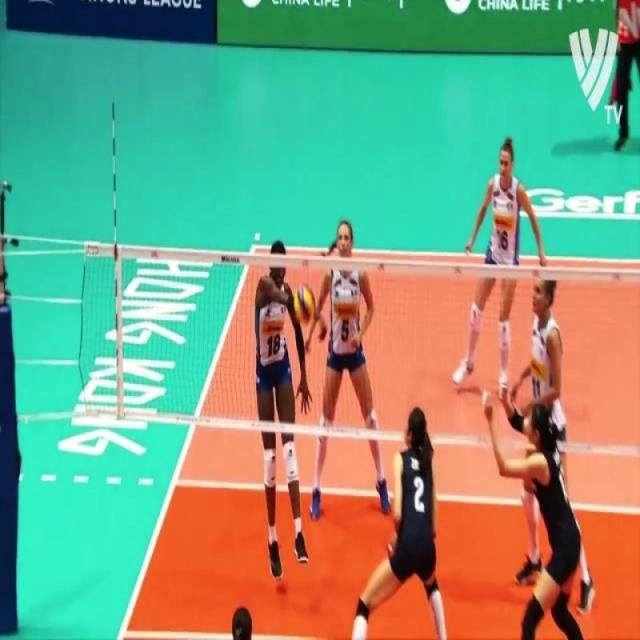volleyball: (291, 278, 316, 328)
